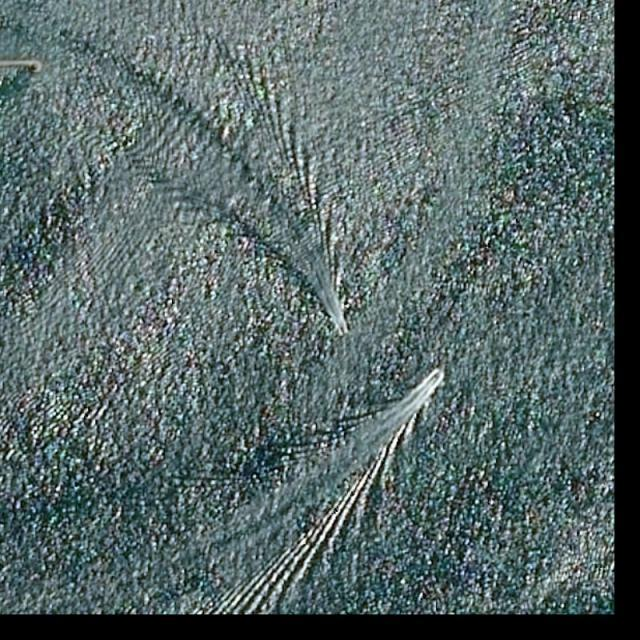ship: (435, 369, 446, 380), (341, 326, 348, 338)
